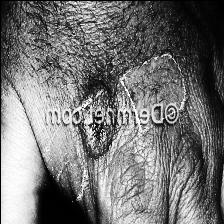Toxin: (74, 82, 114, 157)
